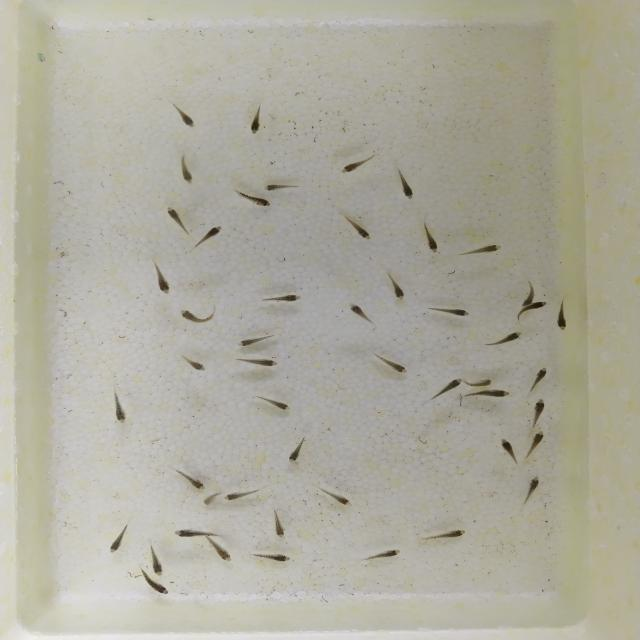fingerling: (335, 210, 375, 242), (309, 480, 353, 508), (336, 151, 383, 174), (418, 211, 442, 255), (368, 350, 410, 374), (392, 165, 419, 202), (170, 466, 207, 492), (106, 520, 134, 554), (146, 542, 174, 576), (345, 300, 379, 328), (167, 101, 199, 129), (428, 376, 463, 401), (175, 305, 220, 324), (286, 429, 310, 464), (109, 383, 129, 425), (164, 206, 191, 237), (518, 474, 543, 507), (244, 102, 268, 136), (193, 225, 223, 252), (151, 260, 173, 296), (249, 394, 293, 412), (482, 330, 526, 348), (243, 550, 295, 565), (456, 243, 504, 259), (177, 150, 198, 186), (553, 293, 572, 332), (232, 354, 280, 369), (358, 547, 403, 563), (384, 271, 408, 301), (418, 528, 469, 542), (499, 436, 522, 467), (526, 364, 549, 395), (206, 539, 235, 563), (270, 508, 291, 541), (171, 527, 230, 538), (426, 304, 472, 318), (176, 352, 208, 372), (225, 486, 265, 502), (524, 430, 546, 459), (528, 397, 548, 428), (236, 334, 280, 348), (466, 388, 513, 400), (142, 579, 173, 597), (520, 300, 549, 319), (260, 293, 304, 305), (260, 181, 307, 192), (243, 194, 272, 209), (520, 280, 539, 299), (201, 492, 223, 508), (469, 378, 496, 386)
